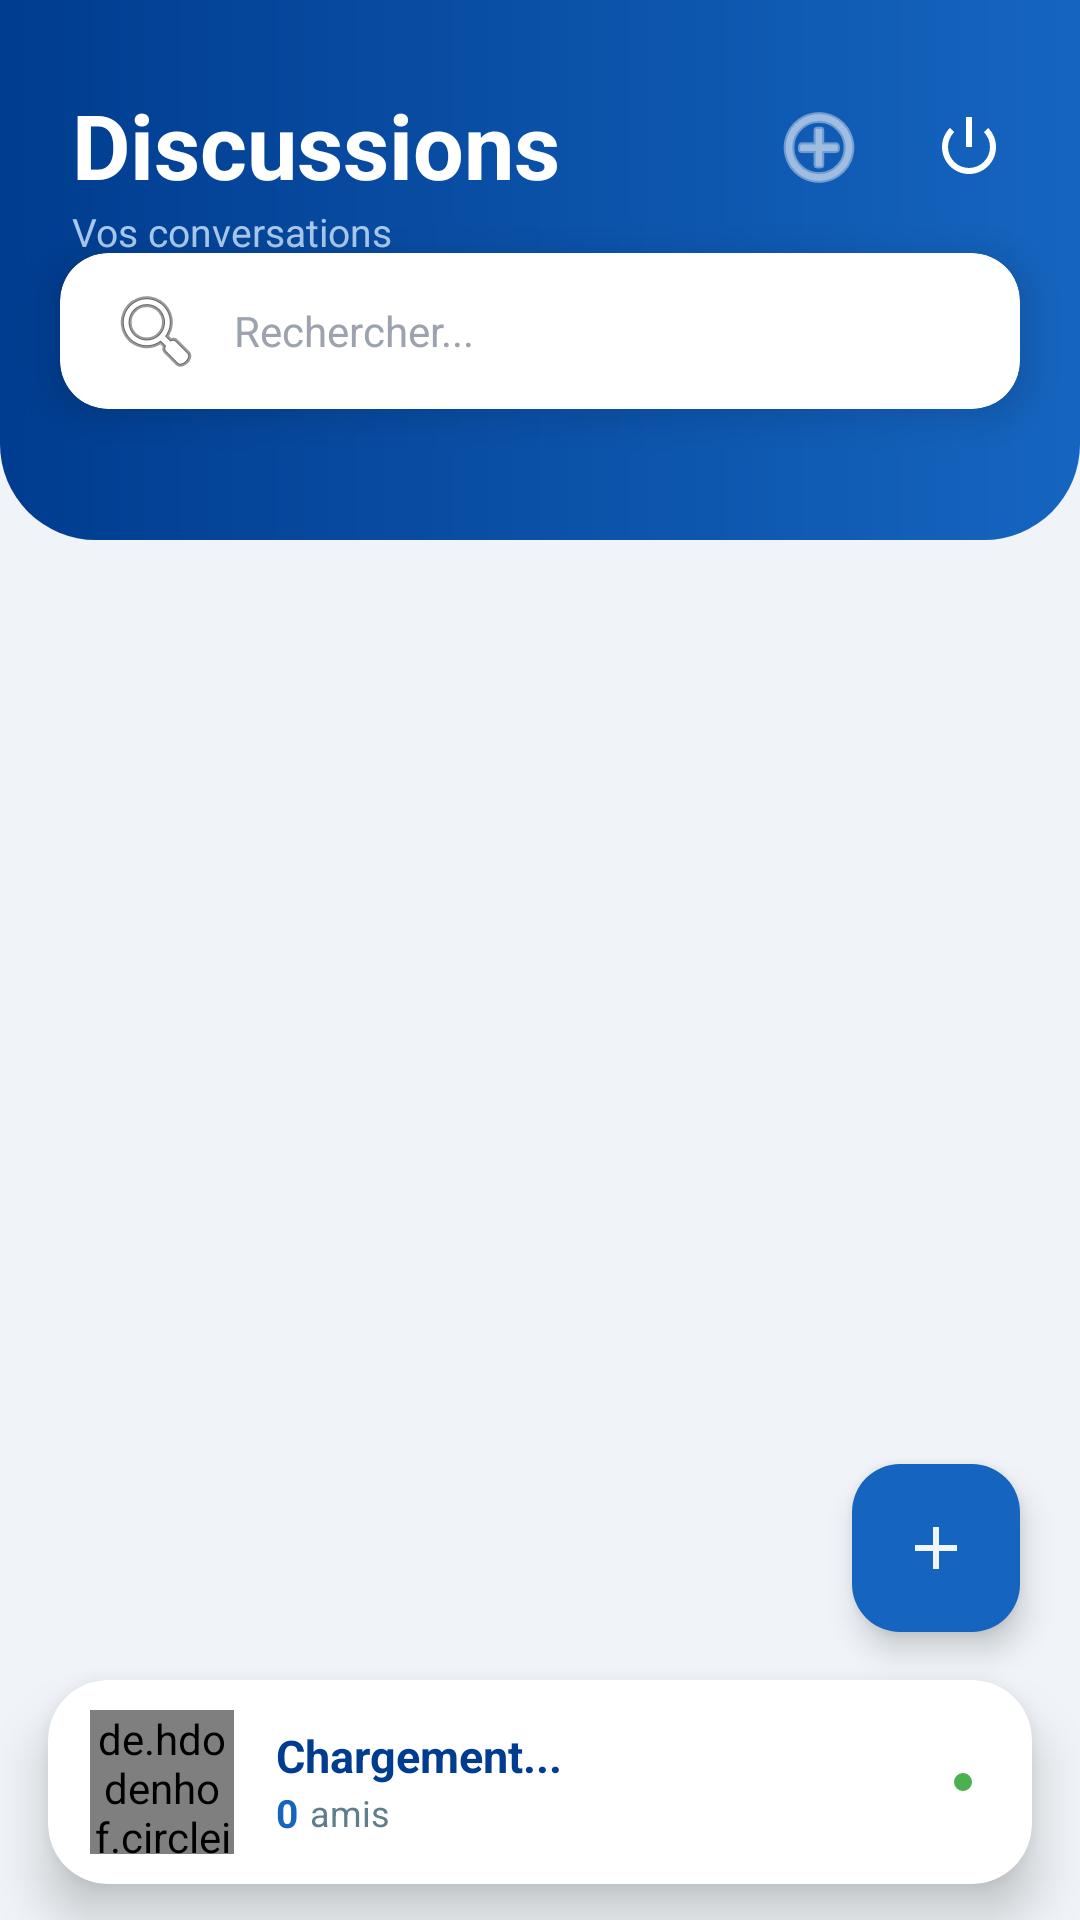

Screen size 1080x1920. Icon name, then its box in pixels as (x1, y1, x2, y2):
Ajouter un ami: (783, 112, 855, 183)
Déconnexion: (942, 117, 996, 174)
Nouvelle discussion: (852, 1464, 1020, 1632)
